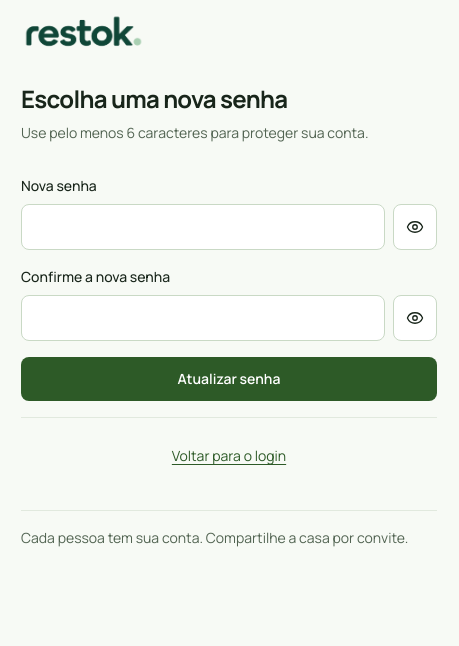
password reset › handles unavailable service or transport failure (true)
Type "apenas-fixture" into the password field labelled "Nova senha" at (203, 227), box x1=21 y1=204 x2=385 y2=250
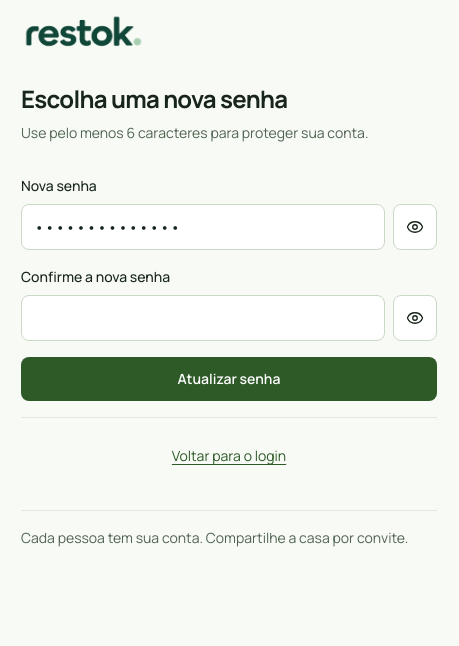
Type "apenas-fixture" into the password field labelled "Confirme a nova senha" at (203, 318), box x1=21 y1=295 x2=385 y2=341
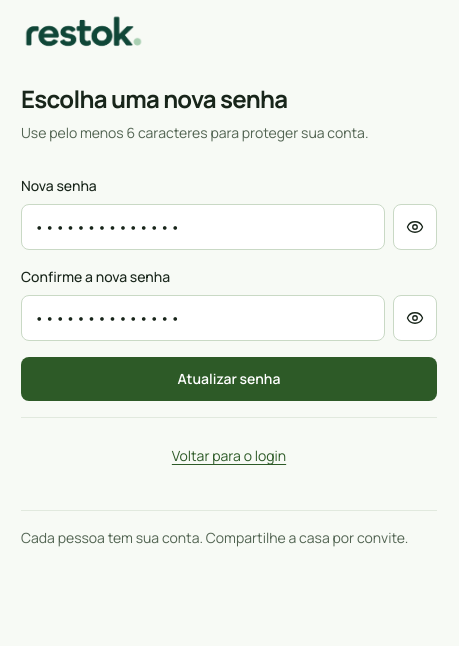
Submit the form named "Escolha uma nova senha", box x1=21 y1=175 x2=437 y2=478
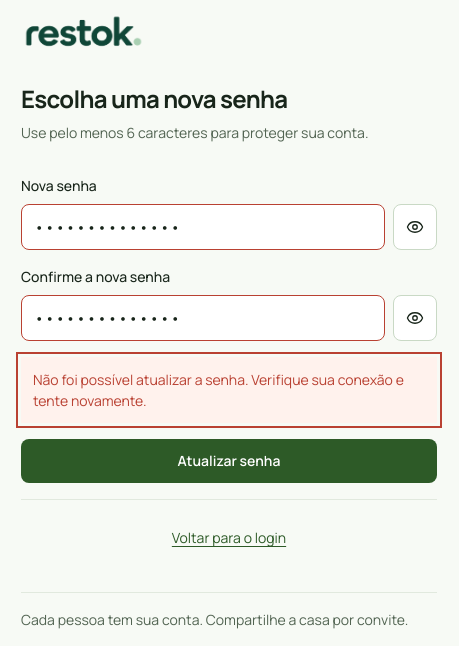
Expected: the button "Atualizar senha" is enabled, x1=21 y1=439 x2=437 y2=483
Expected: the message shows "conexão", x1=33 y1=370 x2=404 y2=410
